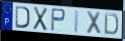D: (103, 12, 120, 36), (15, 5, 31, 30)
I: (73, 10, 80, 35)
P: (50, 7, 67, 32)
X: (32, 6, 49, 32), (86, 10, 102, 37)
